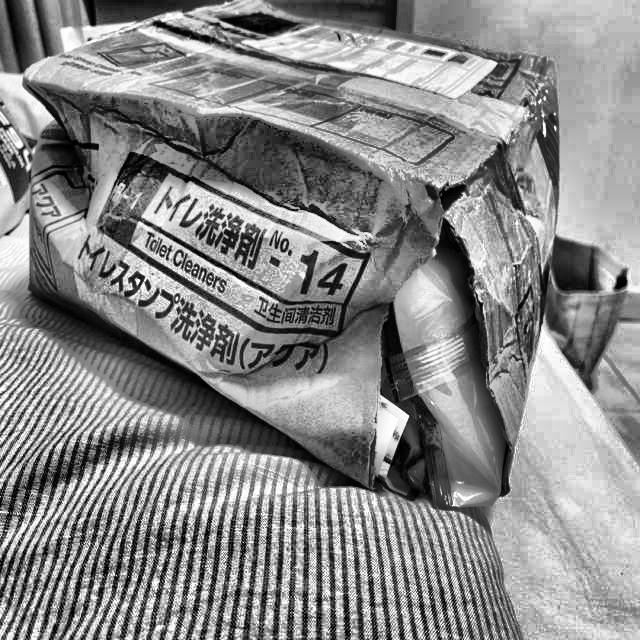box: (18, 0, 565, 525)
hole: (367, 183, 513, 497)
